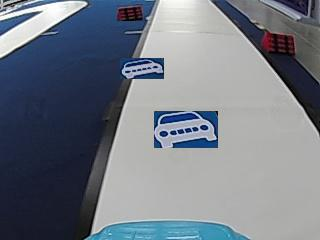bomb: (260, 31, 296, 53)
